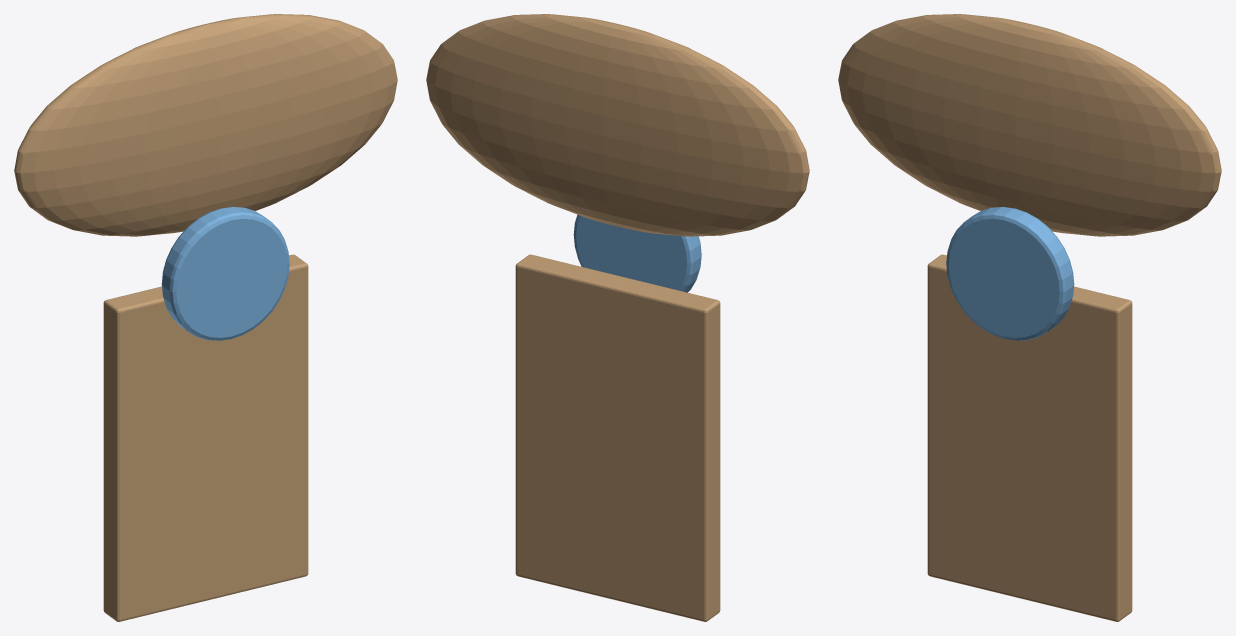
The model's file is blender-door.glb.
3 views of the same model, side by side, from view 1: azimuth 30°, elevation 25°; view 2: azimuth 150°, elevation 25°; view 3: azimuth 330°, elevation 25° (orthographic).
Parts seen in each view (by area): view 1: Cube, Cylinder; view 2: Cube, Cylinder; view 3: Cube, Cylinder.
Part boxes in pixels (x1,y1,x2,y2): Cube: (14, 14, 397, 621); Cylinder: (161, 207, 289, 340); Cube: (426, 14, 809, 621); Cylinder: (573, 214, 701, 292); Cube: (838, 14, 1221, 621); Cylinder: (946, 207, 1074, 340).
Size of the model in its own units: 0.8948 by 1.28 by 0.1635.
